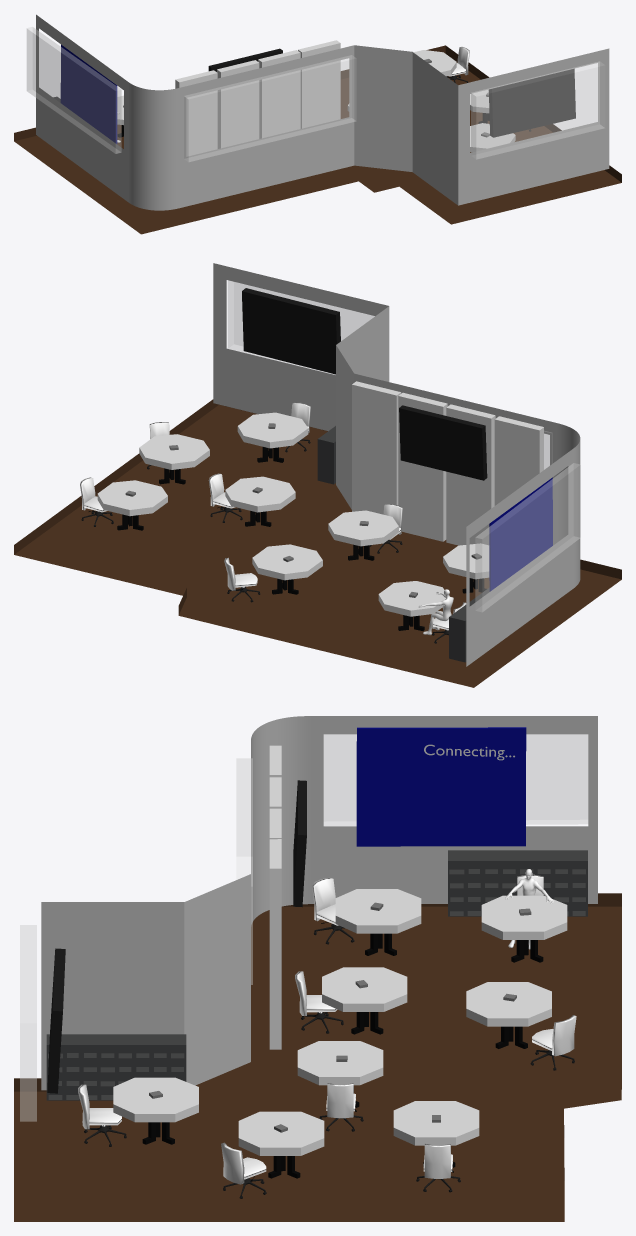
Rendered from projetoInterPessoa6.glb.
3 renders of one model, top to bottom at view 1: azimuth 30°, elevation 25°; view 2: azimuth 150°, elevation 25°; view 3: azimuth 270°, elevation 25°, orthographic. The views are drawn at different scales.
Parts seen in each view (by area): view 1: Cube, Plane, Cube.062, Cube.007, Cube.063, Cube.008, Cube.009, Cube.011, Cube.010, Cube.003, Cube.012, Cube.021 (+3 smaller); view 2: Plane, Cube, Cube.063, Cube.008, Cube.003, Cube.006, Cube.009, Cube.010, Cube.011, Cube.012, Cube.007, Cube.021 (+9 smaller); view 3: Plane, Cube, Cube.009, Cube.063, Cube.001, Cube.002, Cube.021, Cube.036, Cube.020, Cube.013, Cube.029, Cube.044 (+12 smaller).
Boxes of the visible parts, x1,y1,x2,y2 form: Cube: [36, 14, 609, 210]; Plane: [14, 45, 621, 234]; Cube.062: [184, 55, 356, 161]; Cube.007: [471, 61, 604, 159]; Cube.063: [27, 27, 121, 153]; Cube.008: [488, 69, 575, 137]; Cube.009: [60, 44, 117, 143]; Cube.011: [217, 60, 259, 148]; Cube.010: [258, 50, 300, 138]; Cube.003: [298, 40, 340, 128]; Cube.012: [175, 70, 217, 156]; Cube.021: [470, 123, 515, 152]; Plane: [14, 399, 621, 687]; Cube: [213, 263, 580, 666]; Cube.063: [475, 463, 580, 611]; Cube.008: [242, 288, 340, 374]; Cube.003: [352, 381, 401, 514]; Cube.006: [399, 405, 487, 480]; Cube.009: [489, 477, 552, 591]; Cube.010: [398, 392, 447, 541]; Cube.011: [446, 404, 495, 545]; Cube.012: [494, 416, 543, 505]; Cube.007: [228, 280, 374, 374]; Cube.021: [237, 412, 308, 448]; Plane: [14, 893, 621, 1221]; Cube: [41, 716, 597, 1090]; Cube.009: [356, 727, 526, 846]; Cube.063: [324, 734, 587, 825]; Cube.001: [448, 850, 587, 916]; Cube.002: [46, 1034, 186, 1100]; Cube.021: [113, 1077, 198, 1122]; Cube.036: [335, 889, 421, 933]; Cube.020: [238, 1111, 324, 1155]; Cube.013: [393, 1101, 479, 1145]; Cube.029: [322, 967, 407, 1011]; Cube.044: [466, 982, 551, 1026].
Bounding box in the file's own units: 88.29 × 28.57 × 71.98.
